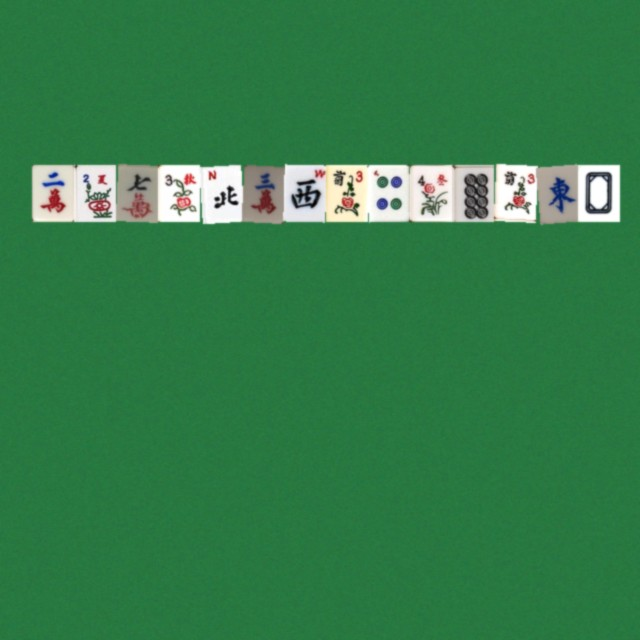tile: (31, 164, 73, 221), (73, 164, 115, 221), (115, 164, 157, 221), (157, 164, 199, 221), (199, 164, 241, 221), (241, 164, 283, 221), (283, 164, 325, 221), (325, 164, 367, 221), (367, 164, 409, 221), (409, 164, 451, 221), (451, 164, 493, 221), (493, 164, 535, 221), (535, 164, 577, 221), (577, 164, 619, 221)
